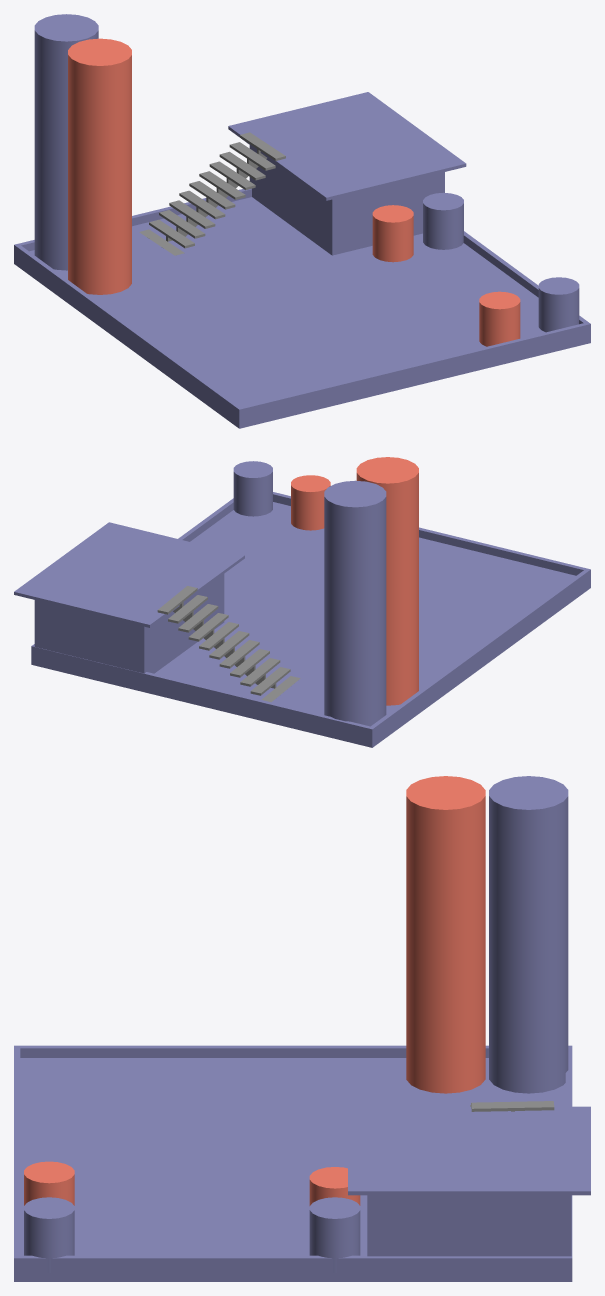
File: aaaaaaa.FBX
3 views of the same model, one above another, from view 1: azimuth 30°, elevation 25°; view 2: azimuth 150°, elevation 25°; view 3: azimuth 270°, elevation 25° (orthographic). The views are drawn at different scales.
Parts seen in each view (by area): view 1: Box001, Box002, Cylinder004, Cylinder003, StraightStair001, Cylinder002, Cylinder001, Cylinder006, Cylinder005; view 2: Box001, Box002, Cylinder003, Cylinder004, StraightStair001, Cylinder005, Cylinder006; view 3: Box001, Box002, Cylinder004, Cylinder003, Cylinder001, Cylinder005, Cylinder006, Cylinder002, StraightStair001.
Part boxes in pixels (x1=…): Box001: x1=14, y1=188, x2=590, y2=428; Box002: x1=228, y1=92, x2=466, y2=255; Cylinder004: x1=68, y1=38, x2=131, y2=294; Cylinder003: x1=34, y1=14, x2=98, y2=270; StraightStair001: x1=139, y1=132, x2=285, y2=255; Cylinder002: x1=372, y1=205, x2=413, y2=262; Cylinder001: x1=423, y1=192, x2=463, y2=249; Cylinder006: x1=479, y1=291, x2=520, y2=346; Cylinder005: x1=538, y1=277, x2=579, y2=332; Box001: x1=31, y1=492, x2=590, y2=747; Box002: x1=14, y1=522, x2=244, y2=673; Cylinder003: x1=324, y1=480, x2=386, y2=726; Cylinder004: x1=356, y1=457, x2=418, y2=705; StraightStair001: x1=157, y1=586, x2=300, y2=702; Cylinder005: x1=233, y1=461, x2=272, y2=516; Cylinder006: x1=291, y1=475, x2=330, y2=530; Box001: x1=14, y1=1045, x2=572, y2=1281; Box002: x1=348, y1=1106, x2=590, y2=1256; Cylinder004: x1=406, y1=776, x2=485, y2=1093; Cylinder003: x1=489, y1=776, x2=568, y2=1093; Cylinder001: x1=309, y1=1197, x2=360, y2=1272; Cylinder005: x1=24, y1=1197, x2=74, y2=1272; Cylinder006: x1=24, y1=1161, x2=74, y2=1205; Cylinder002: x1=309, y1=1167, x2=360, y2=1205; StraightStair001: x1=470, y1=1101, x2=554, y2=1111.
Size of the model in its own units: 381 by 425 by 242.
Materials: 3 (2 with a texture image).
